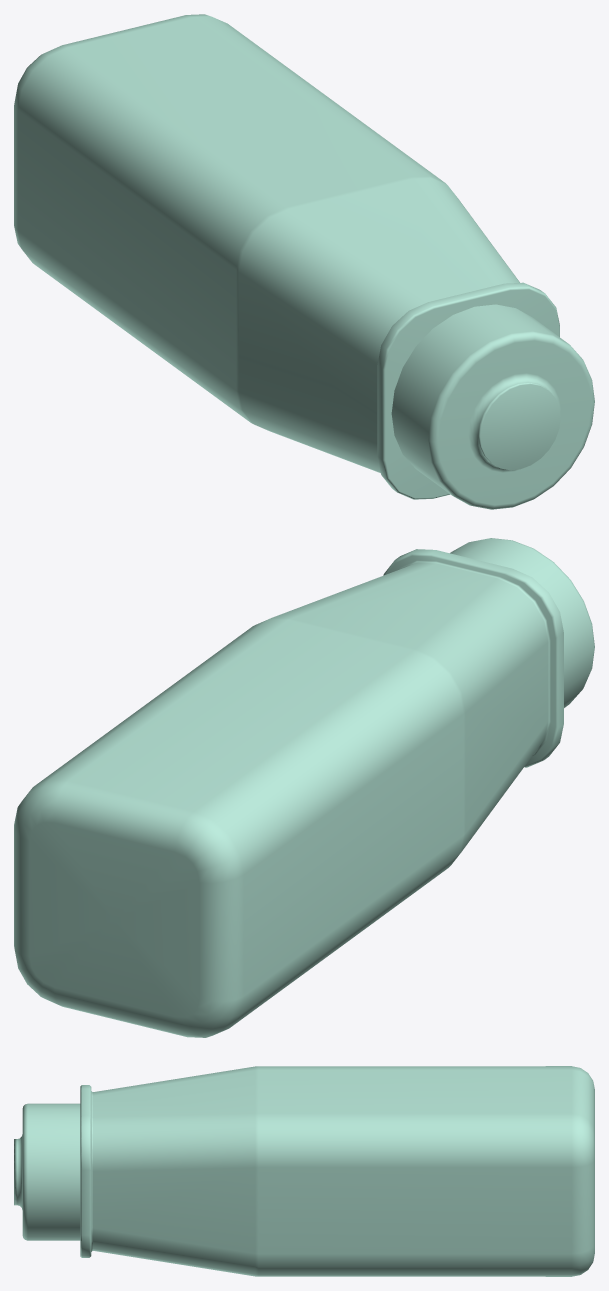
File: SM_Robot_Hand_part05.fbx
3 renders of one model, top to bottom at view 1: azimuth 30°, elevation 25°; view 2: azimuth 150°, elevation 25°; view 3: azimuth 270°, elevation 25°, orthographic. The views are drawn at different scales.
Visible parts, largest first — view 1: SM_Robot_Hand_part05; view 2: SM_Robot_Hand_part05; view 3: SM_Robot_Hand_part05.
Boxes of the visible parts, x1,y1,x2,y2 form: SM_Robot_Hand_part05: [14, 14, 594, 509]; SM_Robot_Hand_part05: [14, 538, 594, 1037]; SM_Robot_Hand_part05: [14, 1066, 594, 1276].
Bounding box in the file's own units: 10.18 × 9.62 × 31.81.
